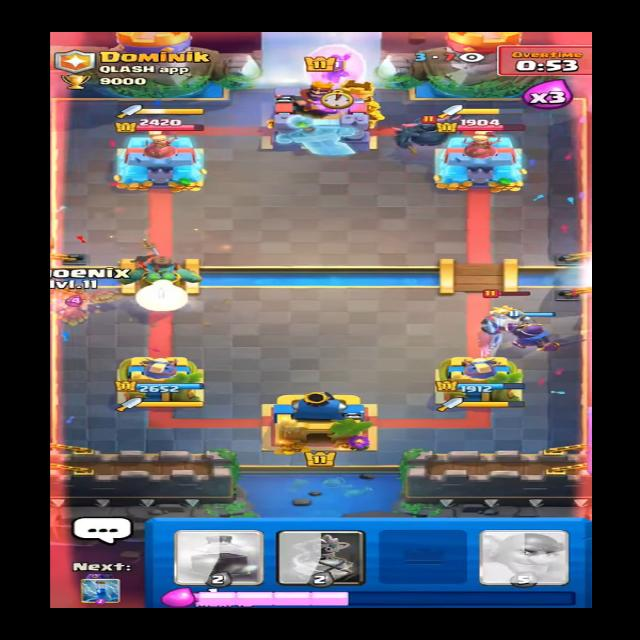evo-wizard: (294, 41, 370, 95)
pekka: (388, 108, 466, 150)
royal-ghost: (466, 290, 540, 336)
